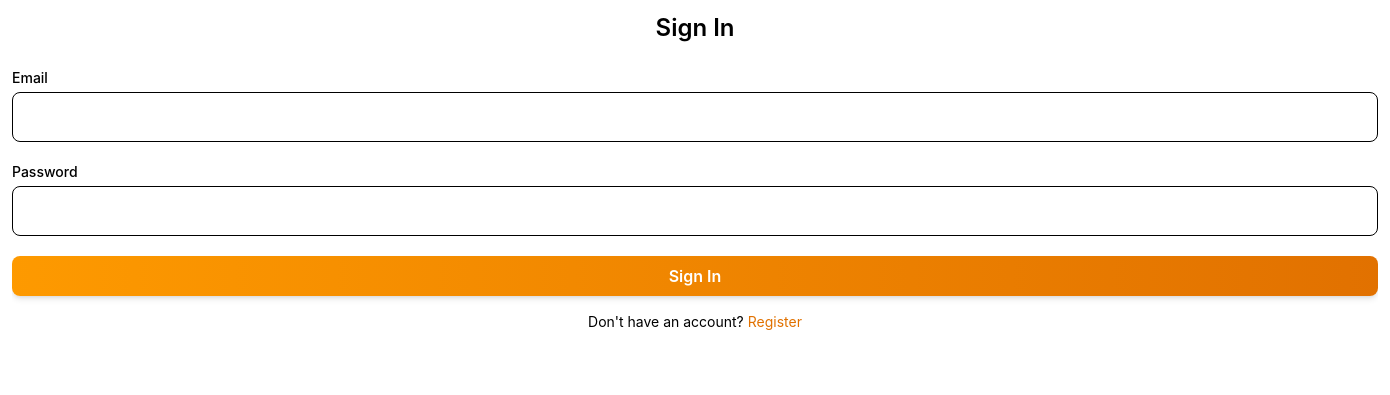
Test: Login › Form validation › shows error for empty email
Step 1. Click the button "Sign In" → (695, 276), box x1=12 y1=256 x2=1378 y2=296
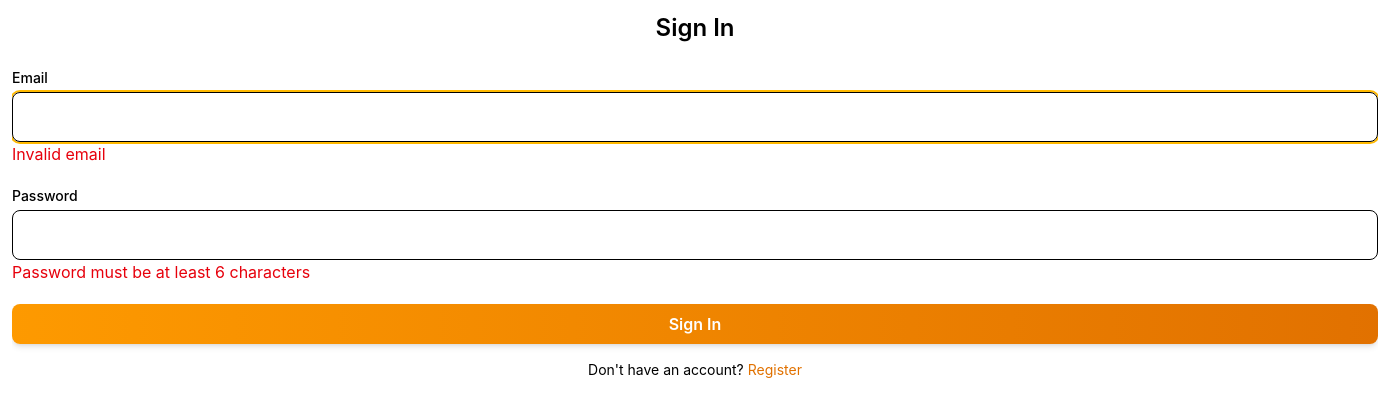
expect the text "Invalid email" is shown: met, box x1=12 y1=144 x2=106 y2=164
